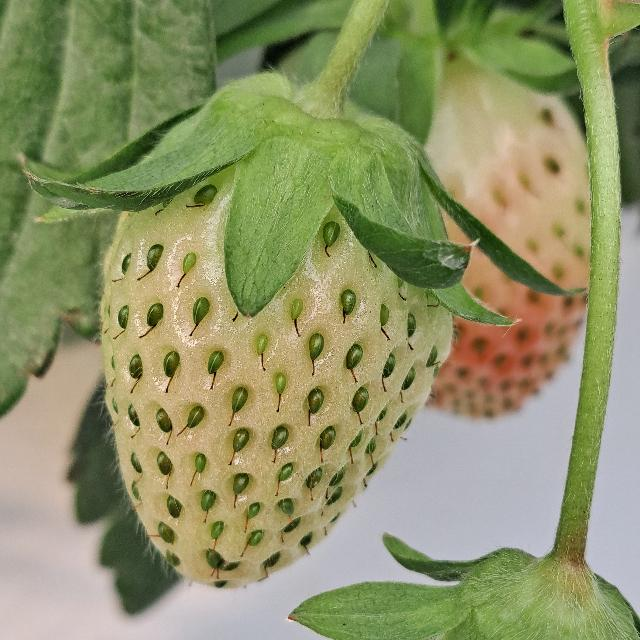Health_25: (100, 162, 452, 588)
